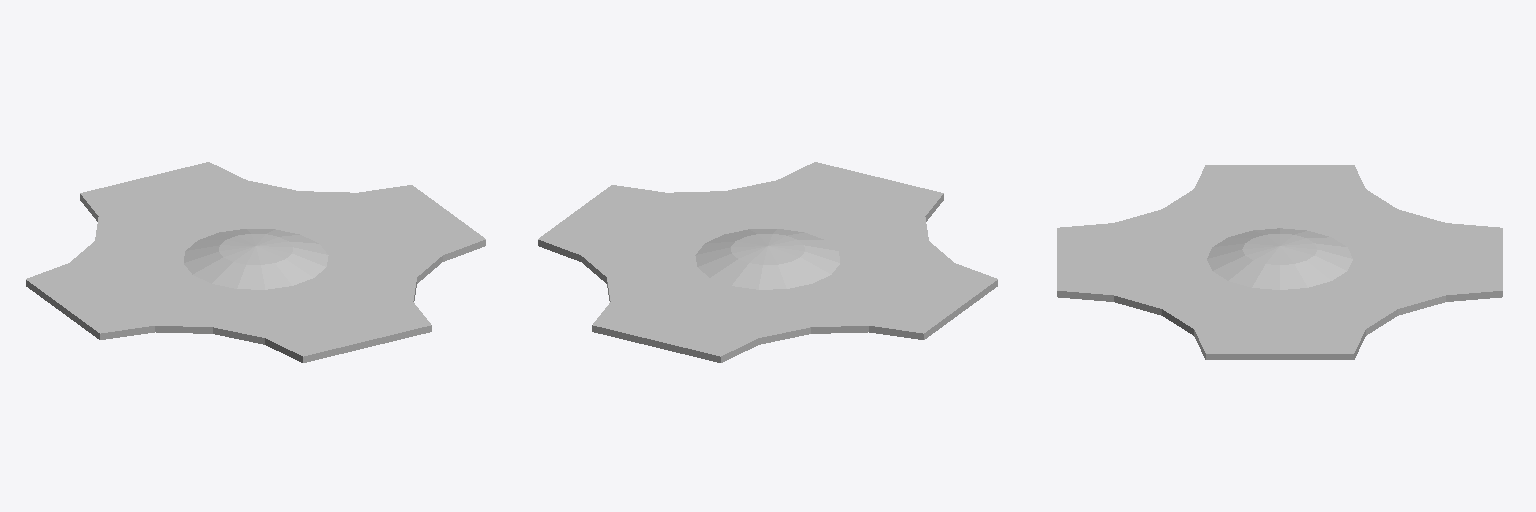
File: roundabout.obj
3 renders of one model, left to right at view 1: azimuth 30°, elevation 25°; view 2: azimuth 150°, elevation 25°; view 3: azimuth 270°, elevation 25°, orthographic.
Parts seen in each view (by area): view 1: Plane_Plane.008; view 2: Plane_Plane.008; view 3: Plane_Plane.008.
Part boxes in pixels (left/top/right/bottom): Plane_Plane.008: left=26, top=162, right=485, bottom=362; Plane_Plane.008: left=538, top=162, right=997, bottom=362; Plane_Plane.008: left=1057, top=165, right=1502, bottom=359.
Size of the model in its own units: 6 by 0.2952 by 6.